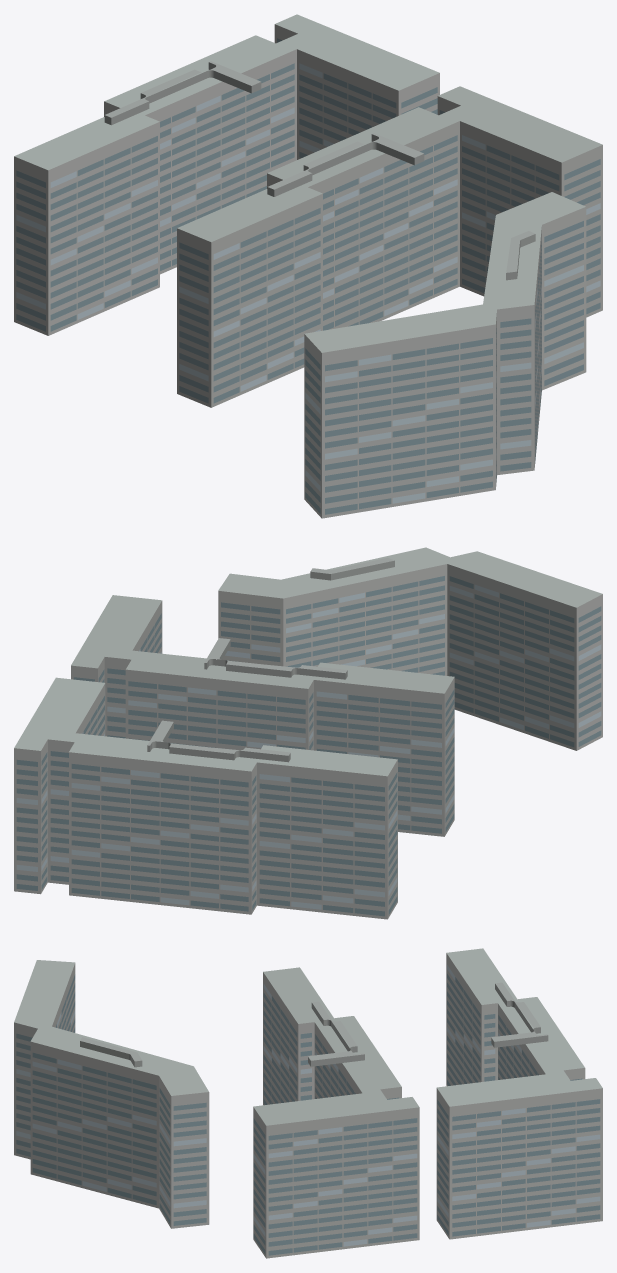
Rendered from apt-a13971501.glb.
The picture shows the model from 3 angles, top to bottom: view 1: azimuth 30°, elevation 25°; view 2: azimuth 150°, elevation 25°; view 3: azimuth 270°, elevation 25°; orthographic projection. The views are drawn at different scales.
Parts seen in each view (by area): view 1: apt-a13971501; view 2: apt-a13971501; view 3: apt-a13971501.
Part boxes in pixels (x1,y1,x2,y2): apt-a13971501: [14, 14, 602, 518]; apt-a13971501: [14, 547, 602, 919]; apt-a13971501: [14, 948, 602, 1258].
Size of the model in its own units: 131 by 47.81 by 184.
